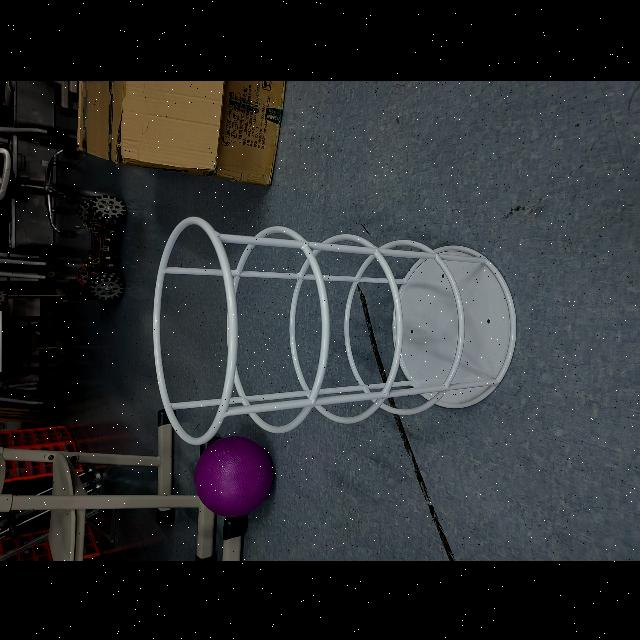S: (148, 211, 522, 447)
